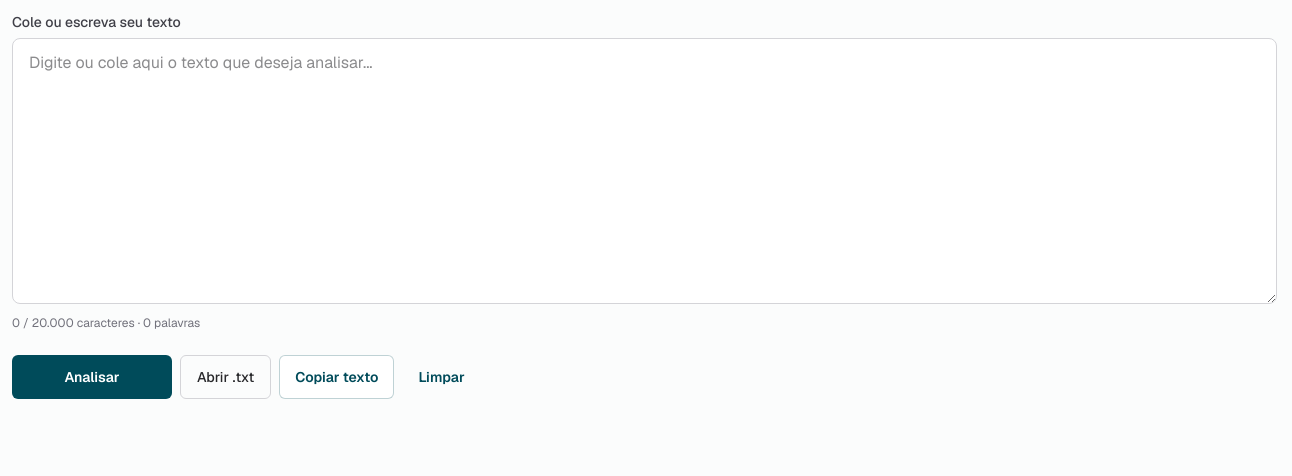
it: LegibilidadeTool › copiar e limpar
In the text box labelled "Cole ou escreva seu texto": coordinates (644, 171) [12, 38, 1277, 304], type "Olá mundo."
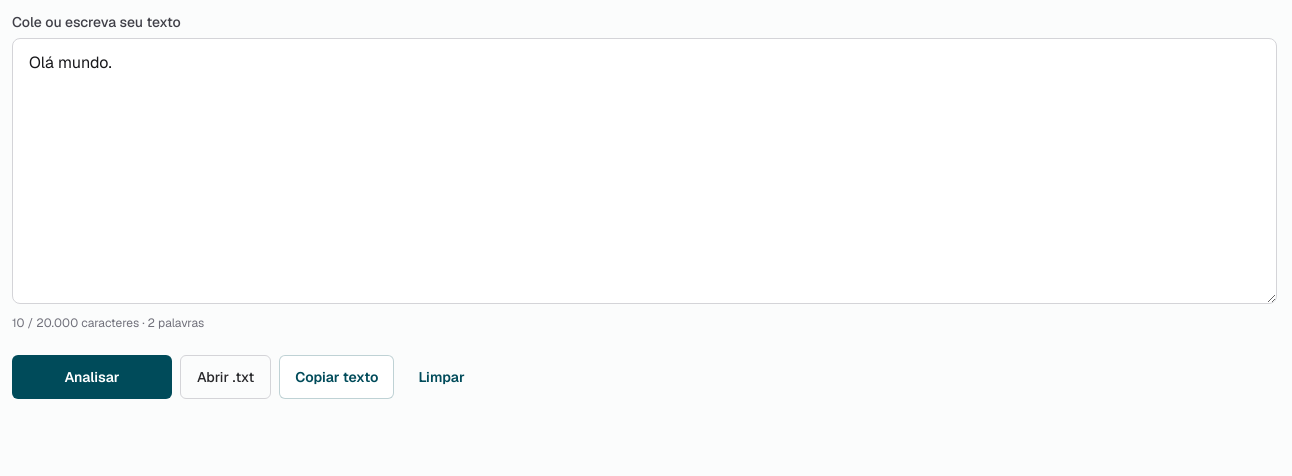
Click the button "Copiar texto": coordinates (337, 377) [279, 355, 394, 399]
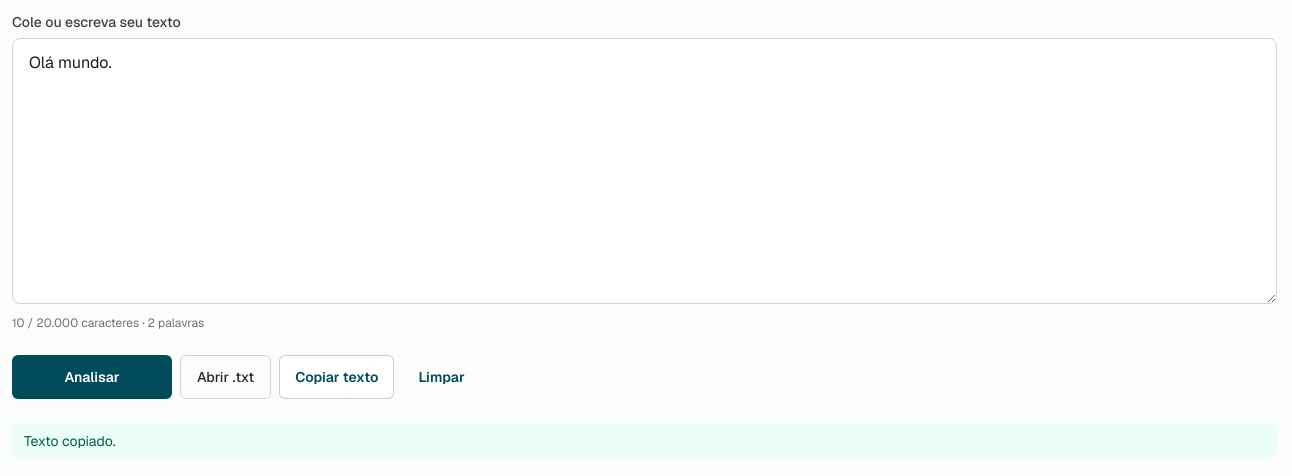
Expected: the text "Texto copiado." is shown, [12, 423, 1277, 459]
Click the button "Limpar": coordinates (442, 377) [402, 355, 481, 399]
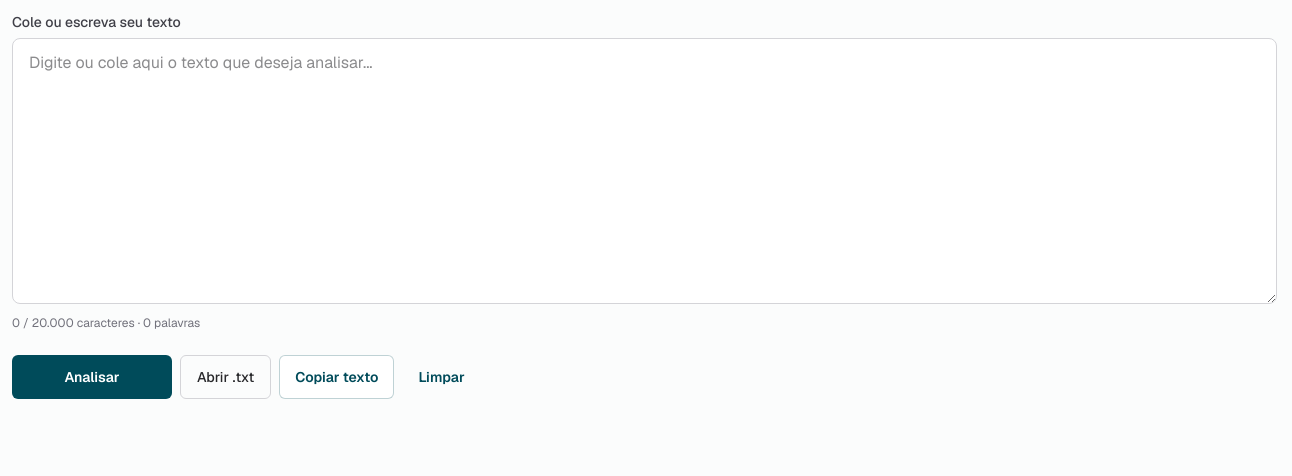
Expected: the text box labelled "Cole ou escreva seu texto" is empty, [12, 38, 1277, 304]
